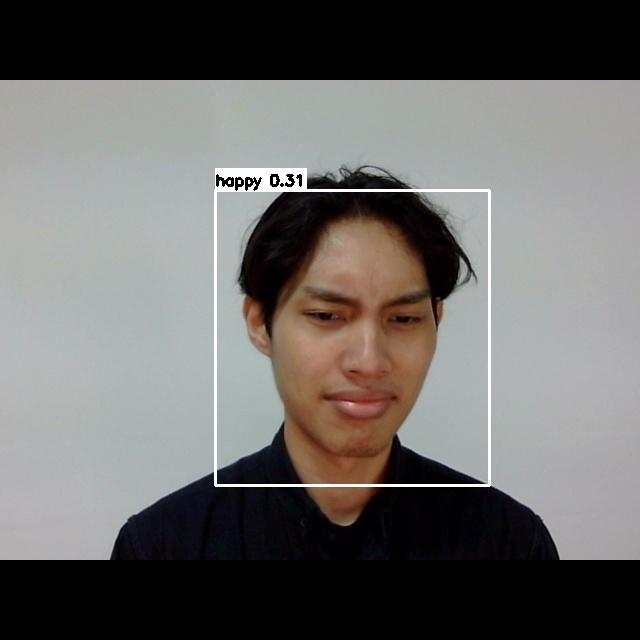Disgust: (276, 266, 449, 445)
